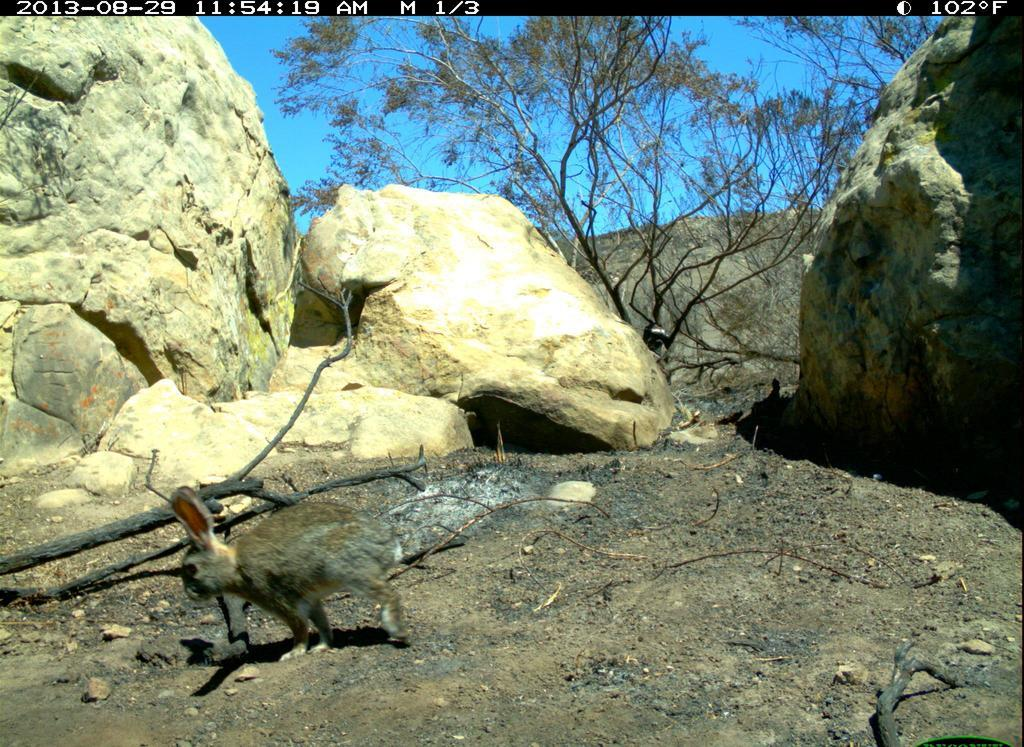rabbit: (162, 481, 423, 661)
